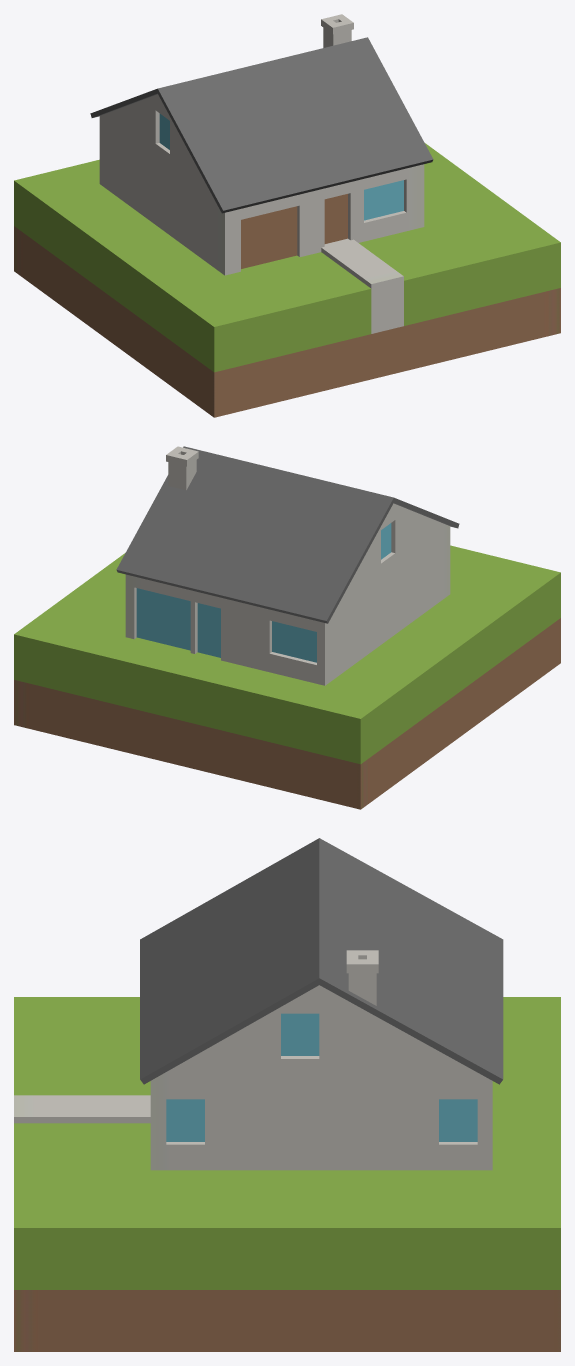
Rendered from building-house3.obj.
3 renders of one model, top to bottom at view 1: azimuth 30°, elevation 25°; view 2: azimuth 150°, elevation 25°; view 3: azimuth 270°, elevation 25°, orthographic. The views are drawn at different scales.
Visible parts, largest first — view 1: house-small.2_Cube.008; view 2: house-small.2_Cube.008; view 3: house-small.2_Cube.008.
Part boxes in pixels (box(x1,y1,x2,y2)): house-small.2_Cube.008: box(14, 14, 560, 417); house-small.2_Cube.008: box(14, 446, 560, 809); house-small.2_Cube.008: box(14, 838, 560, 1351).
Bounding box in the file's own units: 8 × 5.34 × 8.
